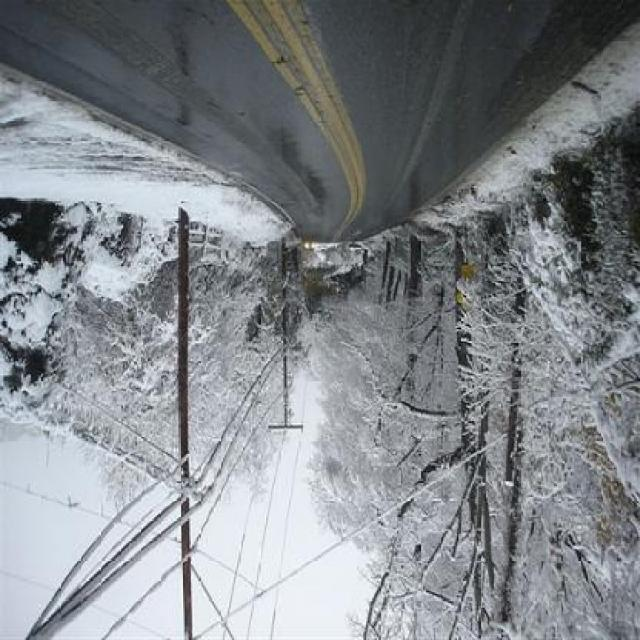pole: (170, 208, 212, 635), (266, 236, 296, 449)
